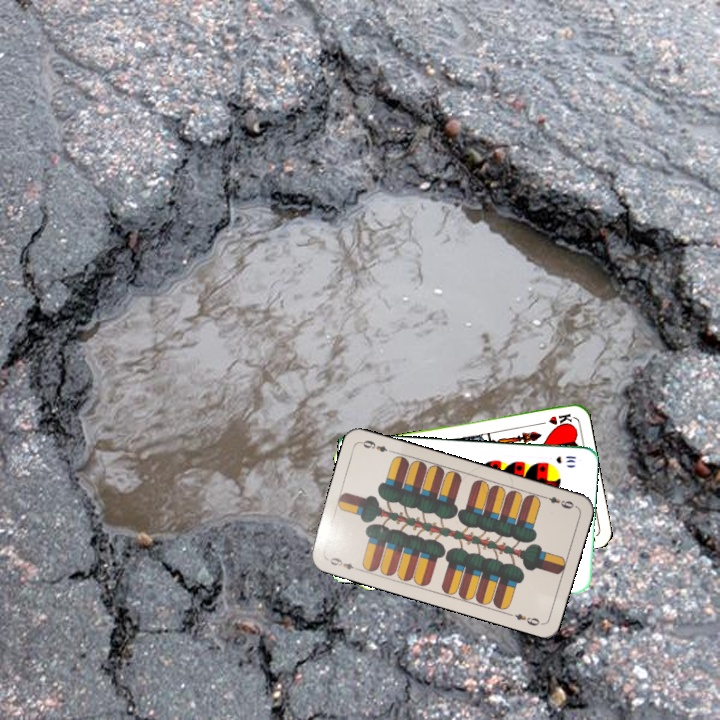E9: (539, 492, 578, 511), (326, 553, 363, 573)
HK: (534, 409, 575, 427)
S10: (552, 452, 579, 466)
